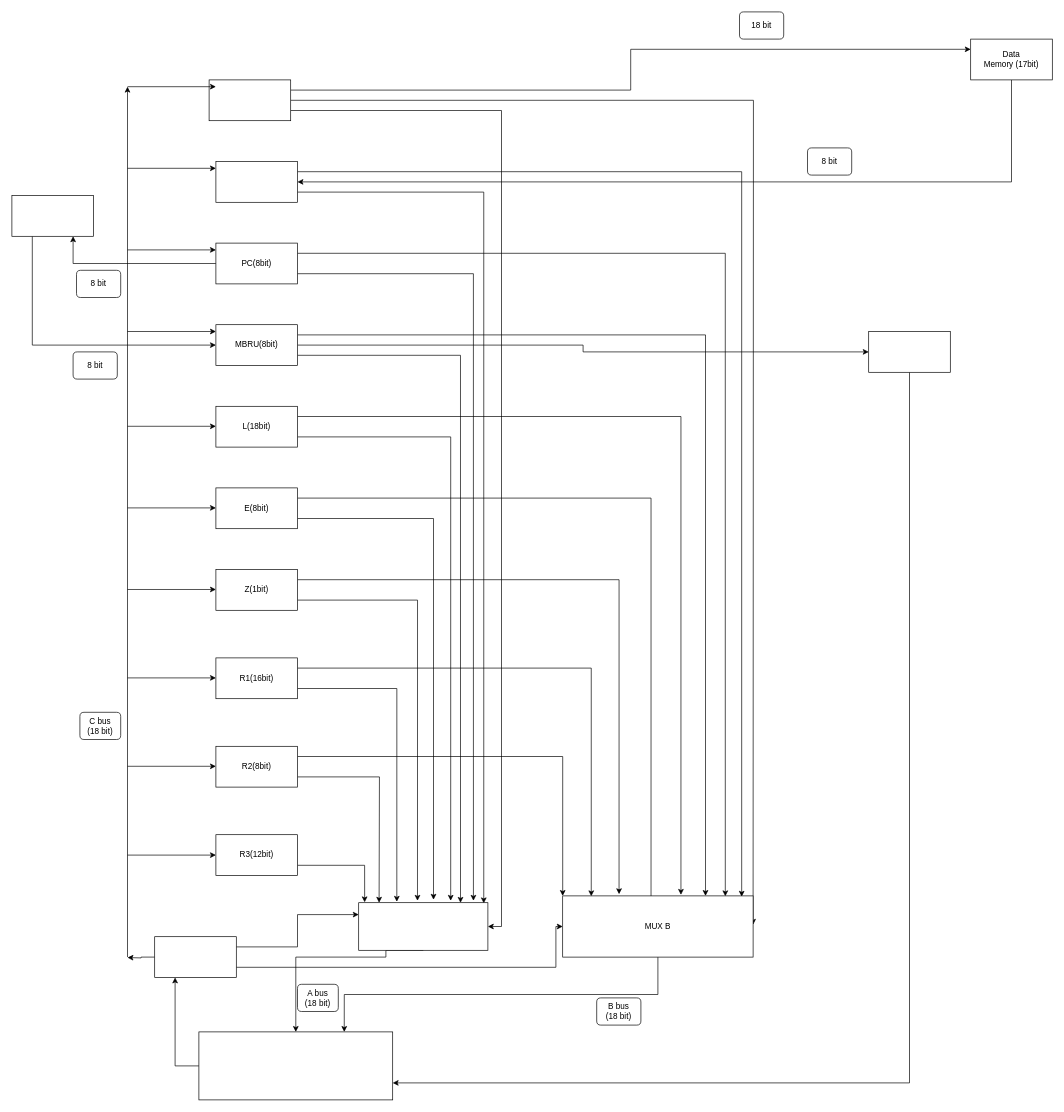
This 1064x1112 diagram has some shape labels left out. Here are the shapes that lost their labels. From the top down, the centre of each, then its label:
(249,100): MAR(18bit)
(256,181): MDR(8bit)
(52,215): Instruction Memory(8bit)
(909,351): Control Unit
(423,926): MUX A
(195,957): AC(18bit)
(295,1065): ALU
